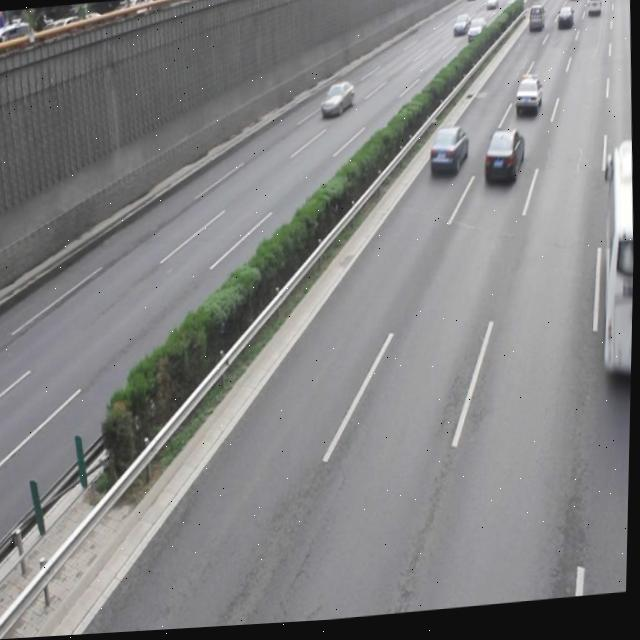car: (483, 132, 526, 191), (428, 128, 469, 181), (319, 83, 354, 122), (513, 81, 541, 121)
van: (597, 147, 637, 392)
